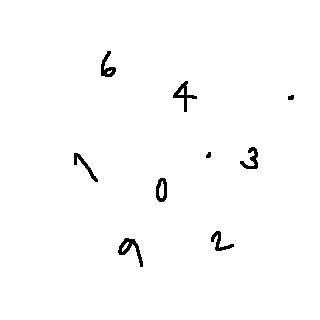.: (283, 88, 305, 106), (203, 147, 216, 166)
0: (154, 172, 173, 208)
1: (70, 148, 102, 191)
2: (207, 225, 242, 259)
3: (237, 139, 264, 180)
4: (172, 77, 199, 123)
6: (96, 46, 121, 84)
9: (114, 230, 148, 276)
